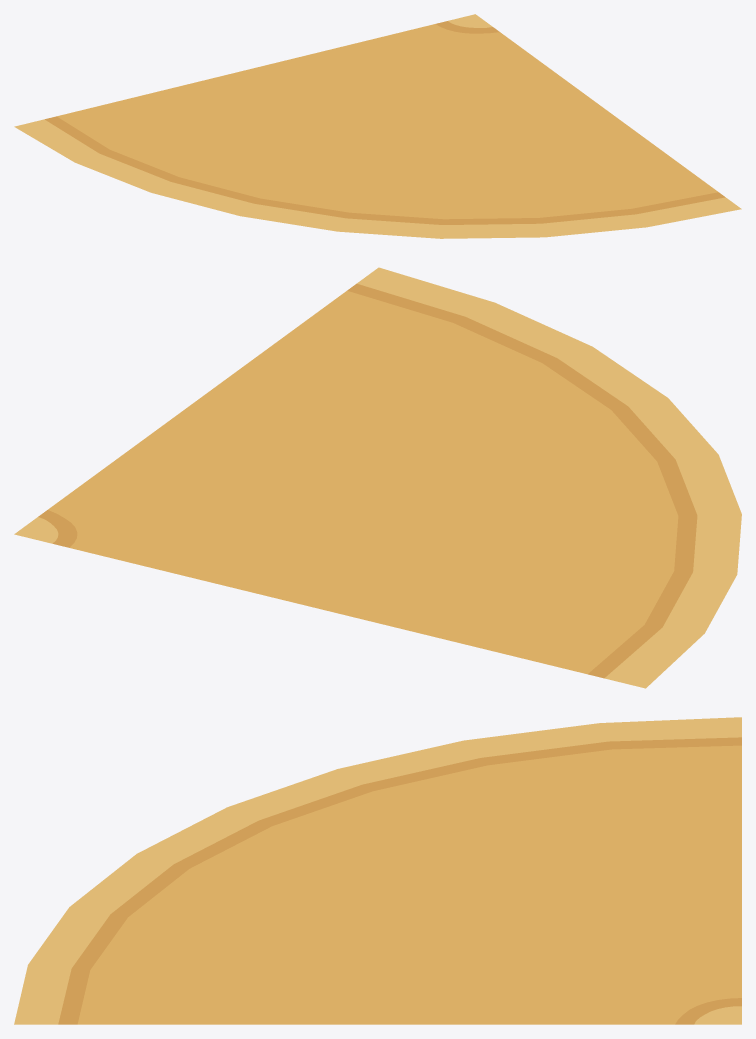
File: FloorU.fbx
3 views of the same model, one above another, from view 1: azimuth 30°, elevation 25°; view 2: azimuth 150°, elevation 25°; view 3: azimuth 270°, elevation 25° (orthographic). The views are drawn at different scales.
Parts seen in each view (by area): view 1: Plane.003; view 2: Plane.003; view 3: Plane.003.
Part boxes in pixels (x1,y1,x2,y2): Plane.003: (14,14,741,238); Plane.003: (14,267,741,688); Plane.003: (14,717,741,1024).
Size of the model in its own units: 200 by 0 by 200.
